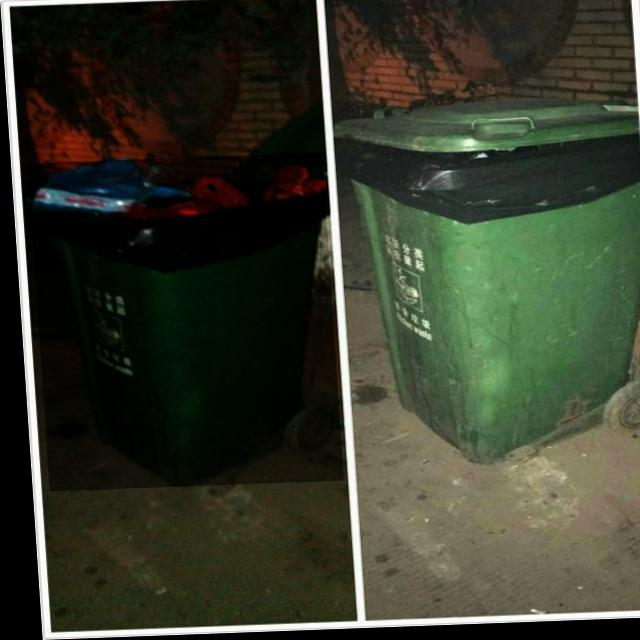garbage_bin: (331, 95, 640, 466)
overflow: (25, 155, 337, 492)
